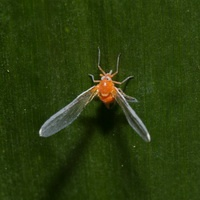insect: (39, 48, 150, 141)
